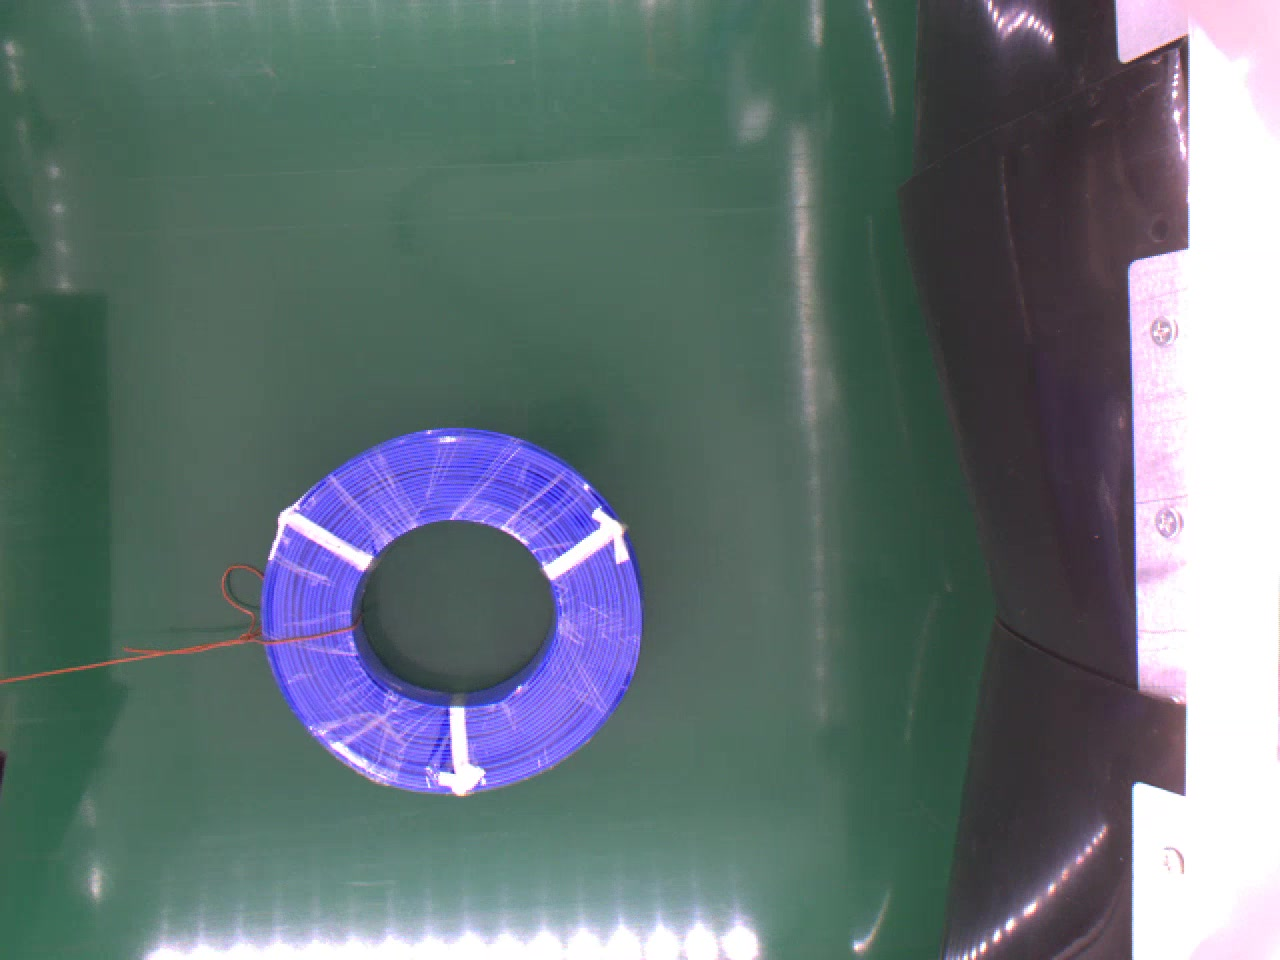blue: (258, 421, 646, 799)
